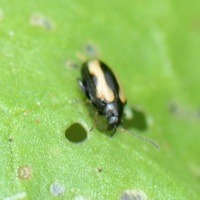insect: (78, 58, 158, 148)
